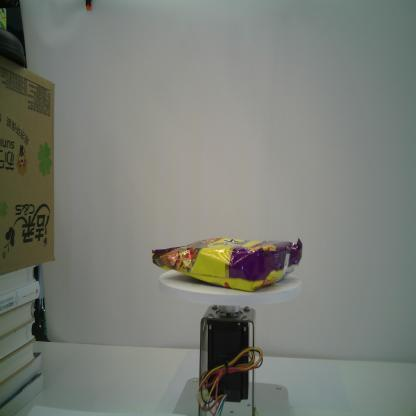Instant Noodles: (150, 236, 304, 294)
